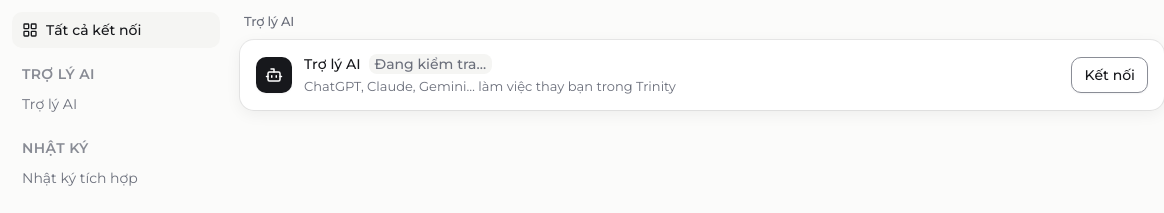
Test: <SettingsIntegrations> — cờ máy chủ › cờ tắt → banner nêu đúng tên cờ cần bật, KHÔNG gọi nhật ký
What coordinates should you click on to do the following:
click the button "Nhật ký tích hợp"
I would click on:
 (116, 178)
Its box is left=12, top=160, right=220, bottom=196.
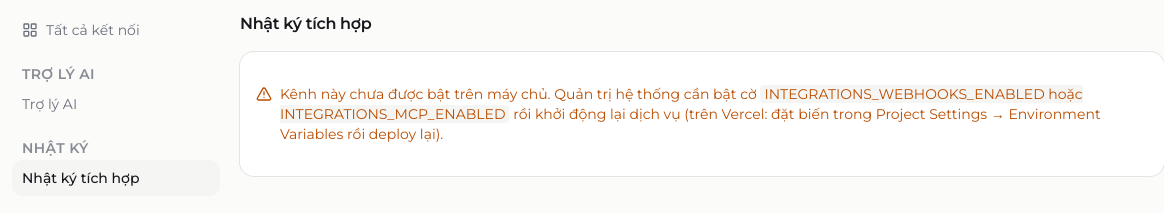
Result: the text "chưa được bật trên máy chủ" is shown at left=280, top=85, right=757, bottom=103
Result: the text "INTEGRATIONS_WEBHOOKS_ENABLED hoặc INTEGRATIONS_MCP_ENABLED" is shown at left=280, top=85, right=1083, bottom=123
